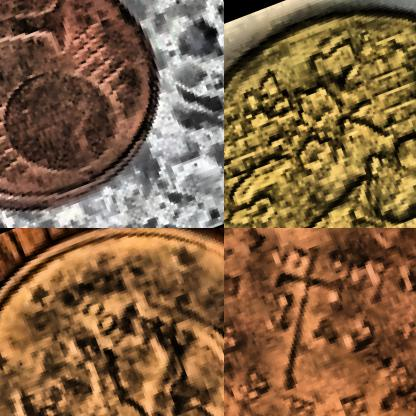coin: (224, 0, 415, 227), (0, 0, 186, 227), (0, 228, 223, 415), (224, 228, 415, 415)
